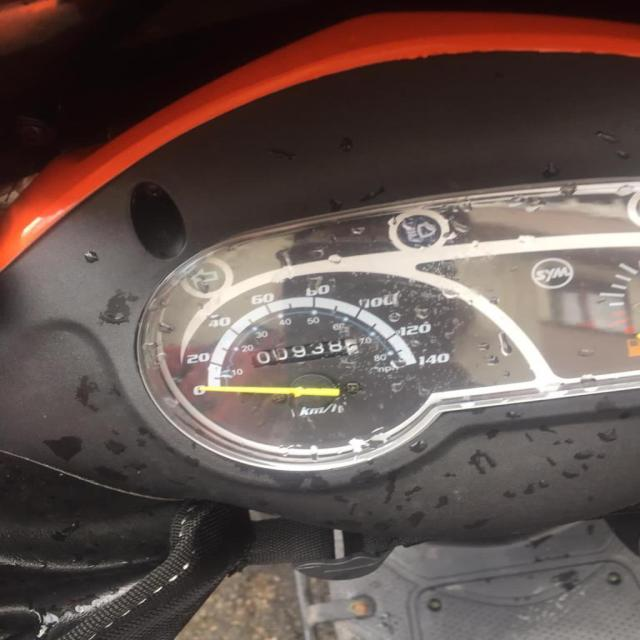odometer: (247, 335, 361, 369)
